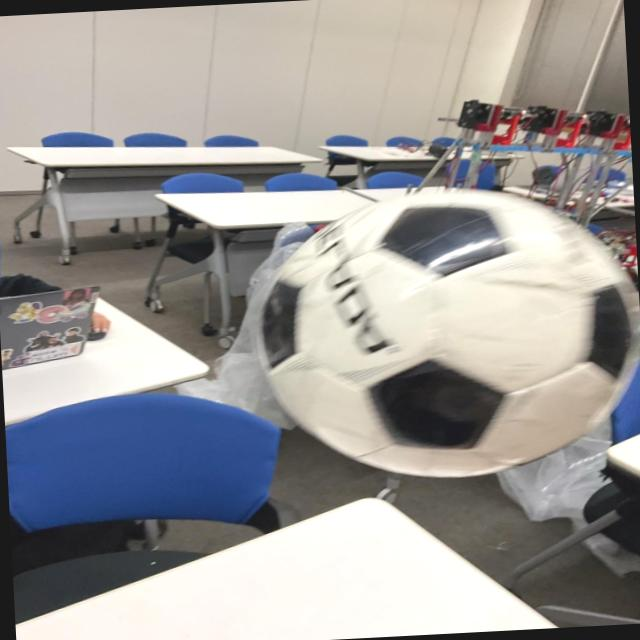Soccer Ball: (249, 179, 640, 487)
